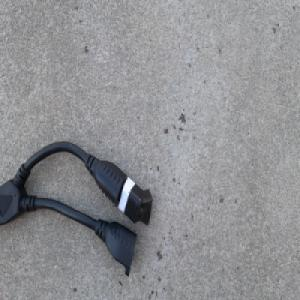Wire: (0, 139, 153, 278)
